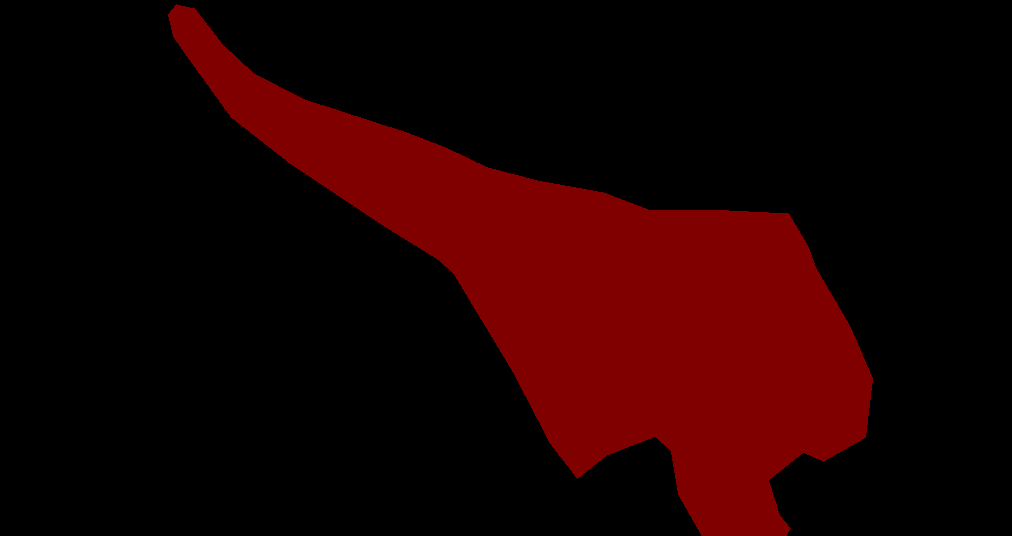fire: (168, 4, 872, 536)
